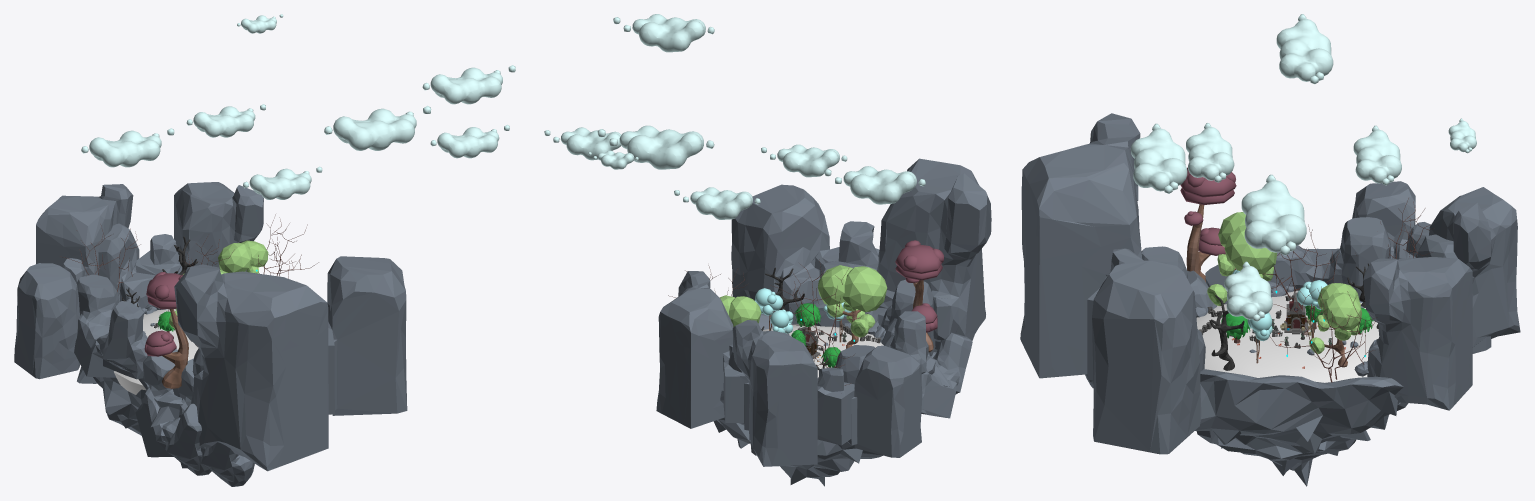
Rendered from fullscene.fbx.
3 views of the same model, side by side, from view 1: azimuth 30°, elevation 25°; view 2: azimuth 150°, elevation 25°; view 3: azimuth 270°, elevation 25° (orthographic). The views are drawn at different scales.
Parts seen in each view (by area): view 1: Cube.017, Mball.005, Cube.056, Cube, Icosphere.009, Sphere.002, Icosphere.017; view 2: Cube.017, Mball.005, Icosphere.016, Cube, Cube.056, Sphere.002, Icosphere.017, Icosphere.009, Icosphere.006, Cube.047; view 3: Cube.017, Mball.005, Cube, Sphere.002, Cube.056, Icosphere.016, Icosphere.009, Icosphere.017, Icosphere.011, Cube.027, Icosphere.008, Icosphere.006.
Part boxes in pixels (x1,y1,x2,y2): Cube.017: [14, 182, 407, 486]; Mball.005: [81, 14, 515, 199]; Cube.056: [144, 272, 188, 388]; Cube: [77, 308, 184, 435]; Icosphere.009: [218, 240, 268, 273]; Sphere.002: [114, 309, 198, 394]; Icosphere.017: [60, 214, 318, 311]; Cube.017: [656, 158, 991, 466]; Mball.005: [544, 14, 925, 219]; Icosphere.016: [817, 265, 887, 348]; Cube: [713, 313, 950, 486]; Cube.056: [895, 240, 944, 352]; Sphere.002: [763, 324, 883, 377]; Icosphere.017: [668, 259, 869, 385]; Icosphere.009: [719, 295, 761, 326]; Icosphere.006: [755, 288, 783, 330]; Cube.047: [794, 303, 821, 330]; Cube.017: [1020, 113, 1520, 454]; Mball.005: [1130, 14, 1476, 321]; Cube: [1195, 369, 1408, 486]; Sphere.002: [1196, 290, 1379, 382]; Cube.056: [1180, 167, 1236, 281]; Icosphere.016: [1207, 212, 1277, 305]; Icosphere.009: [1309, 283, 1362, 367]; Icosphere.017: [1262, 198, 1433, 382]; Icosphere.011: [1209, 295, 1244, 370]; Cube.027: [1284, 292, 1308, 334]; Icosphere.008: [1296, 280, 1327, 338]; Icosphere.006: [1247, 312, 1272, 363].
Size of the model in its own units: 6658 by 5777 by 5791.
